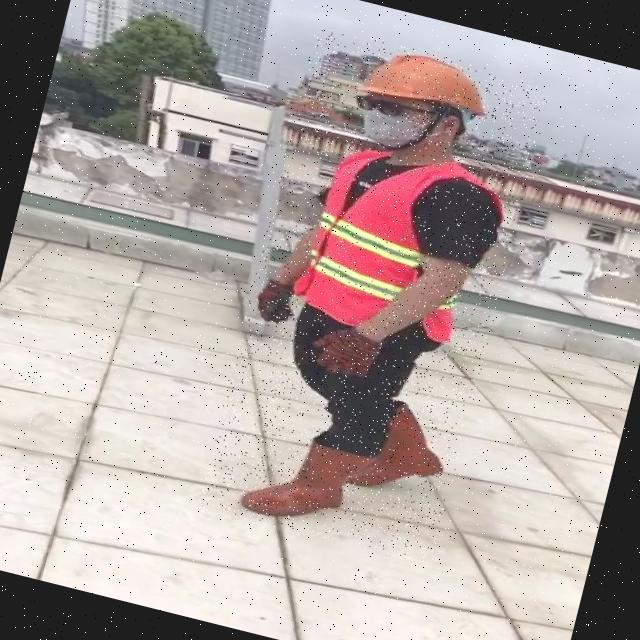boots: (238, 428, 368, 536), (362, 396, 458, 498)
helmet: (351, 37, 500, 125)
vest: (294, 138, 490, 346)
